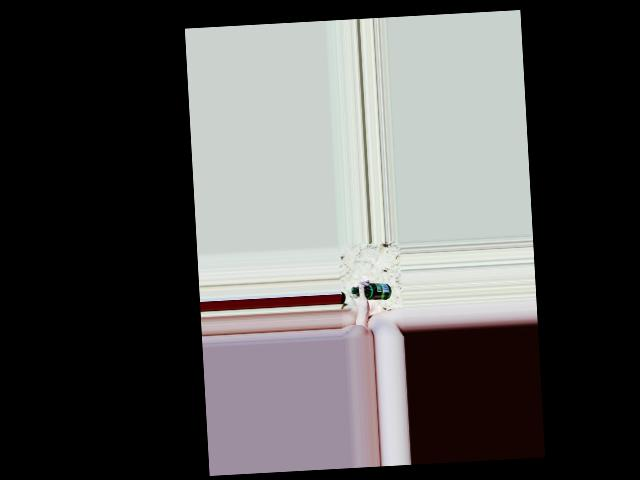beer: (350, 282, 392, 302)
